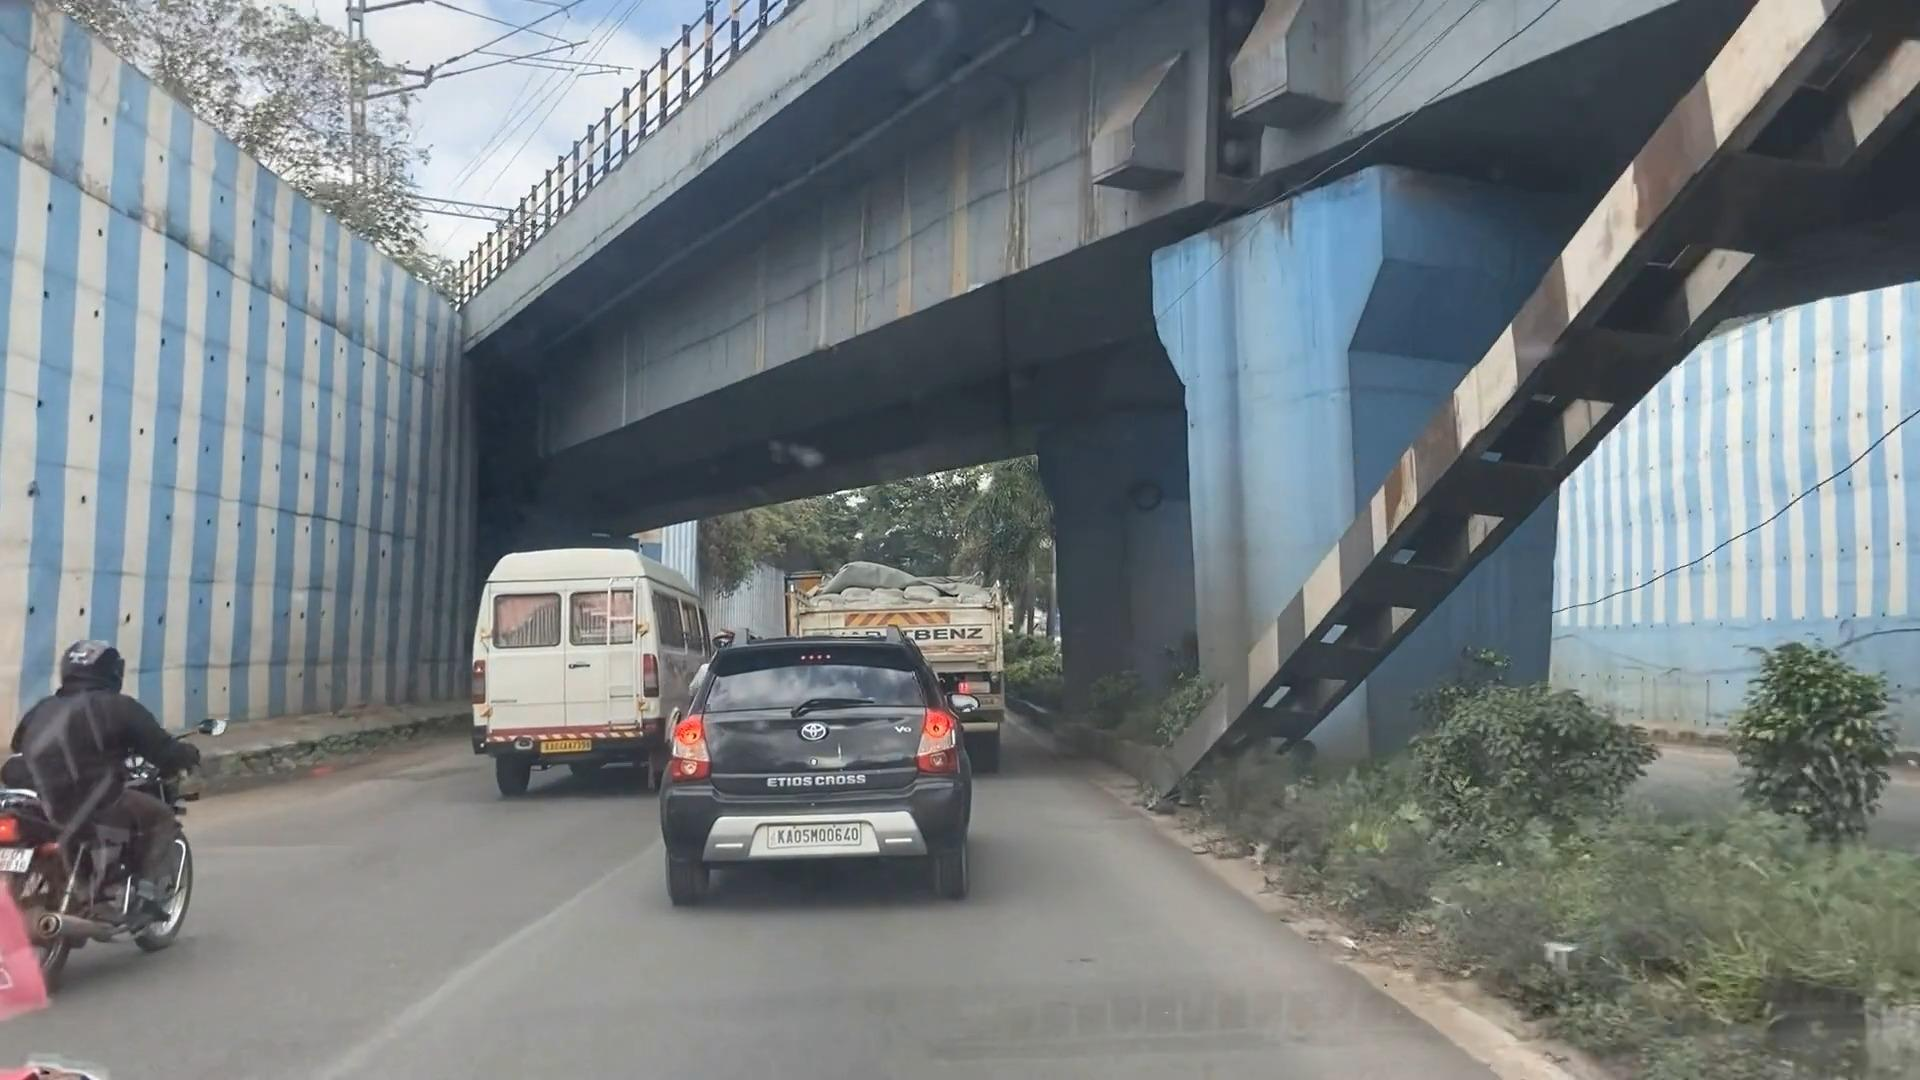HMV: (465, 538, 702, 796)
LMV: (0, 642, 277, 990), (658, 620, 968, 902)
